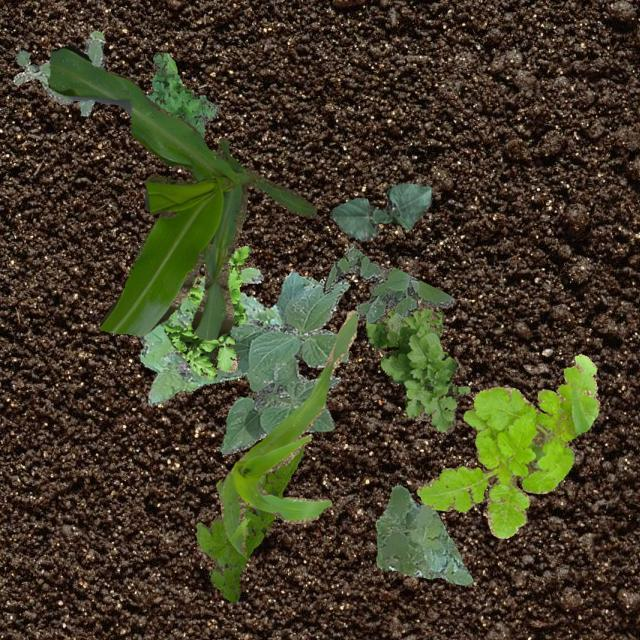crop: (48, 44, 314, 338), (218, 308, 356, 556), (175, 270, 348, 452), (328, 182, 431, 240)
weed: (416, 352, 598, 538), (136, 266, 282, 404), (194, 448, 302, 600), (366, 297, 468, 433), (163, 244, 250, 378), (322, 244, 454, 322), (374, 484, 472, 584), (12, 30, 104, 114), (144, 52, 218, 136), (162, 310, 202, 380)
